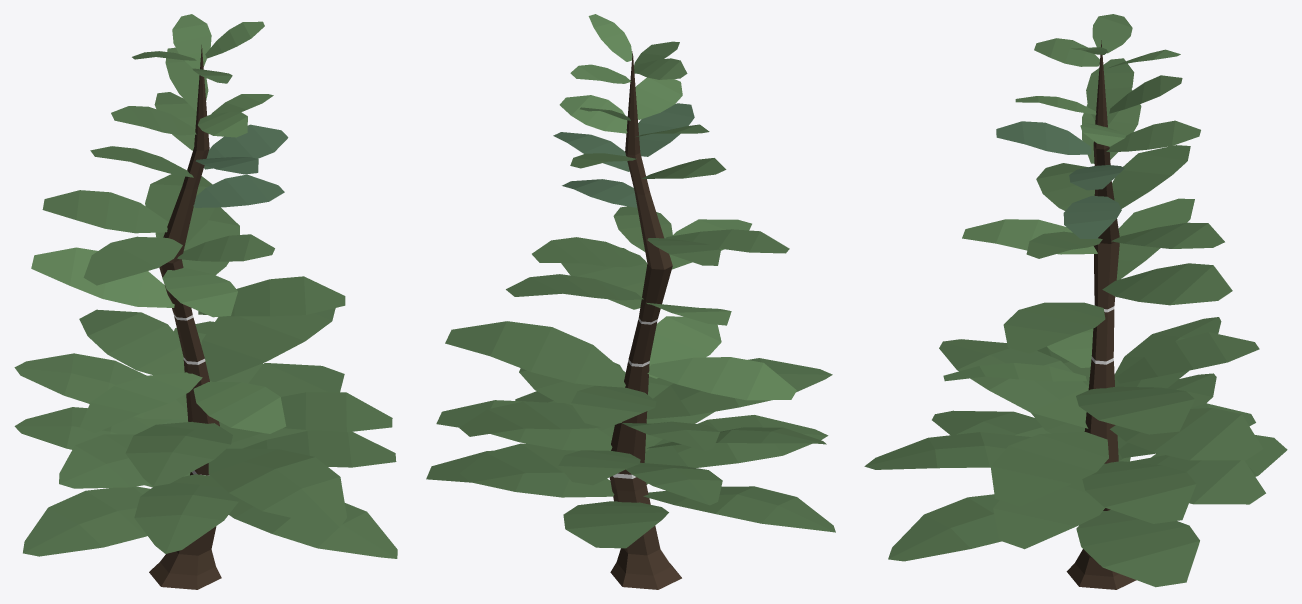
The model's file is tree2.fbx.
3 renders of one model, left to right at view 1: azimuth 30°, elevation 25°; view 2: azimuth 150°, elevation 25°; view 3: azimuth 270°, elevation 25°, orthographic. The views are drawn at different scales.
Visible parts, largest first — view 1: Circle.007; view 2: Circle.007; view 3: Circle.007.
Part boxes in pixels (x1,y1,x2,y2): Circle.007: (14, 14, 397, 589); Circle.007: (426, 14, 835, 589); Circle.007: (864, 14, 1287, 589).
Size of the model in its own units: 1.95 by 2.74 by 1.88.
